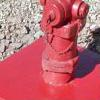Hydrant: (35, 1, 91, 87)
